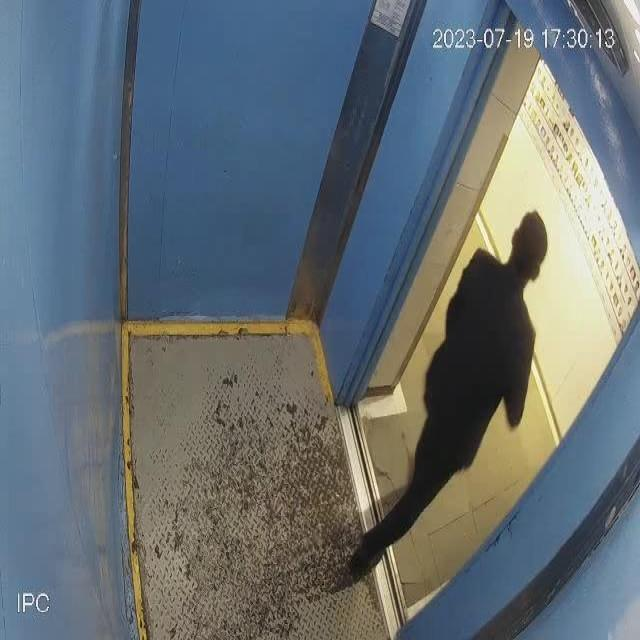person: (351, 211, 549, 588)
